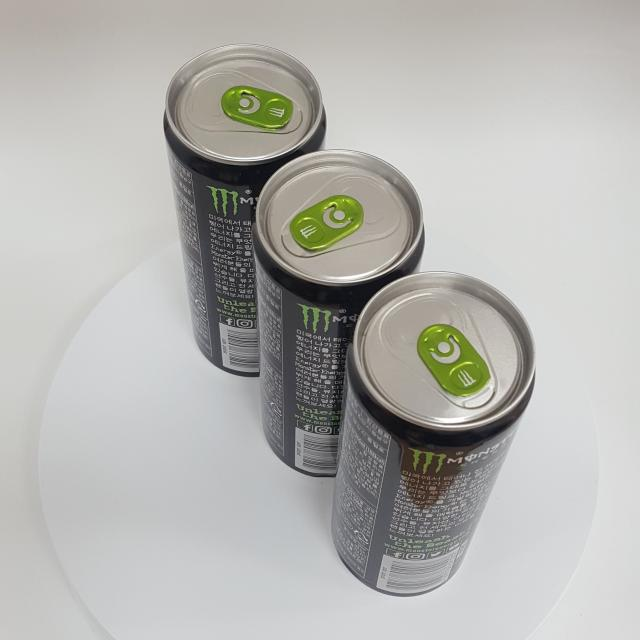--------355ML: (331, 271, 536, 597), (250, 148, 426, 478), (162, 43, 328, 378)
